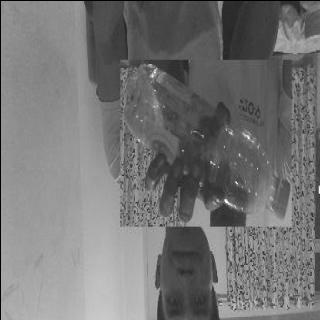plastic_bottles: (119, 59, 290, 226)
